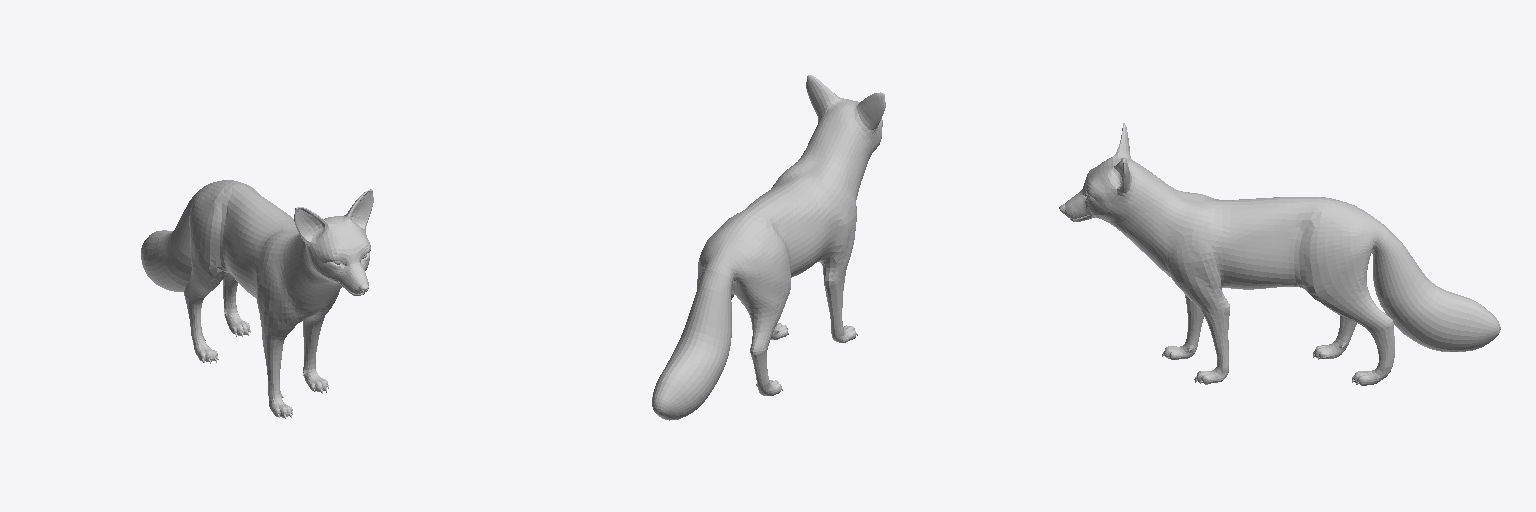
Rendered from fox.obj.
3 renders of one model, left to right at view 1: azimuth 30°, elevation 25°; view 2: azimuth 150°, elevation 25°; view 3: azimuth 270°, elevation 25°, orthographic.
Parts seen in each view (by area): view 1: fox1; view 2: fox1; view 3: fox1.
Part boxes in pixels (bbox=[...]): fox1: bbox=[141, 180, 373, 418]; fox1: bbox=[652, 75, 885, 420]; fox1: bbox=[1059, 123, 1500, 385].
Bounding box in the file's own units: 5.63 × 15.62 × 27.22.